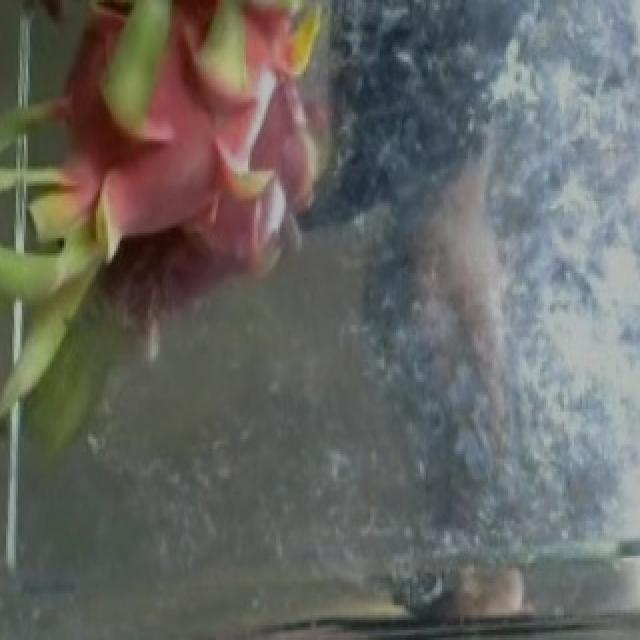fruit: (0, 0, 382, 402)
